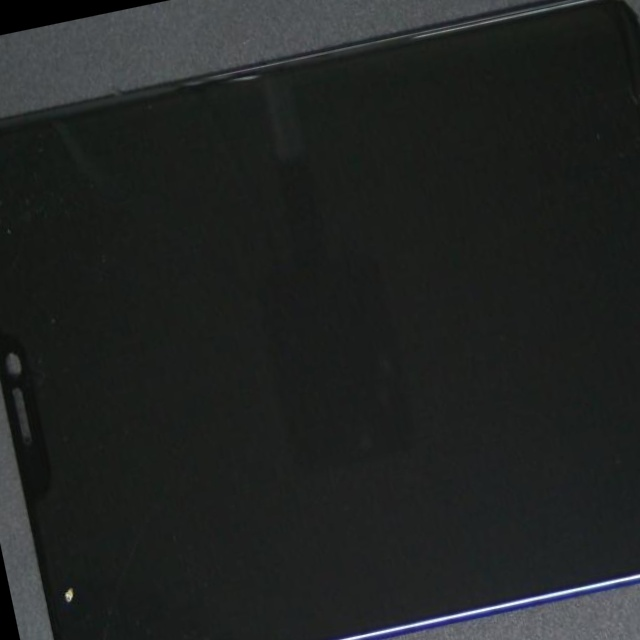stain: (0, 286, 105, 640)
